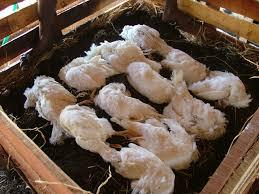AbNormal: (133, 114, 198, 171), (106, 140, 174, 194), (163, 82, 228, 138), (54, 103, 115, 151), (97, 80, 153, 124), (23, 71, 71, 122), (198, 67, 254, 106), (122, 61, 184, 96), (89, 35, 155, 67), (117, 19, 172, 54), (58, 56, 109, 93), (163, 45, 209, 81)
